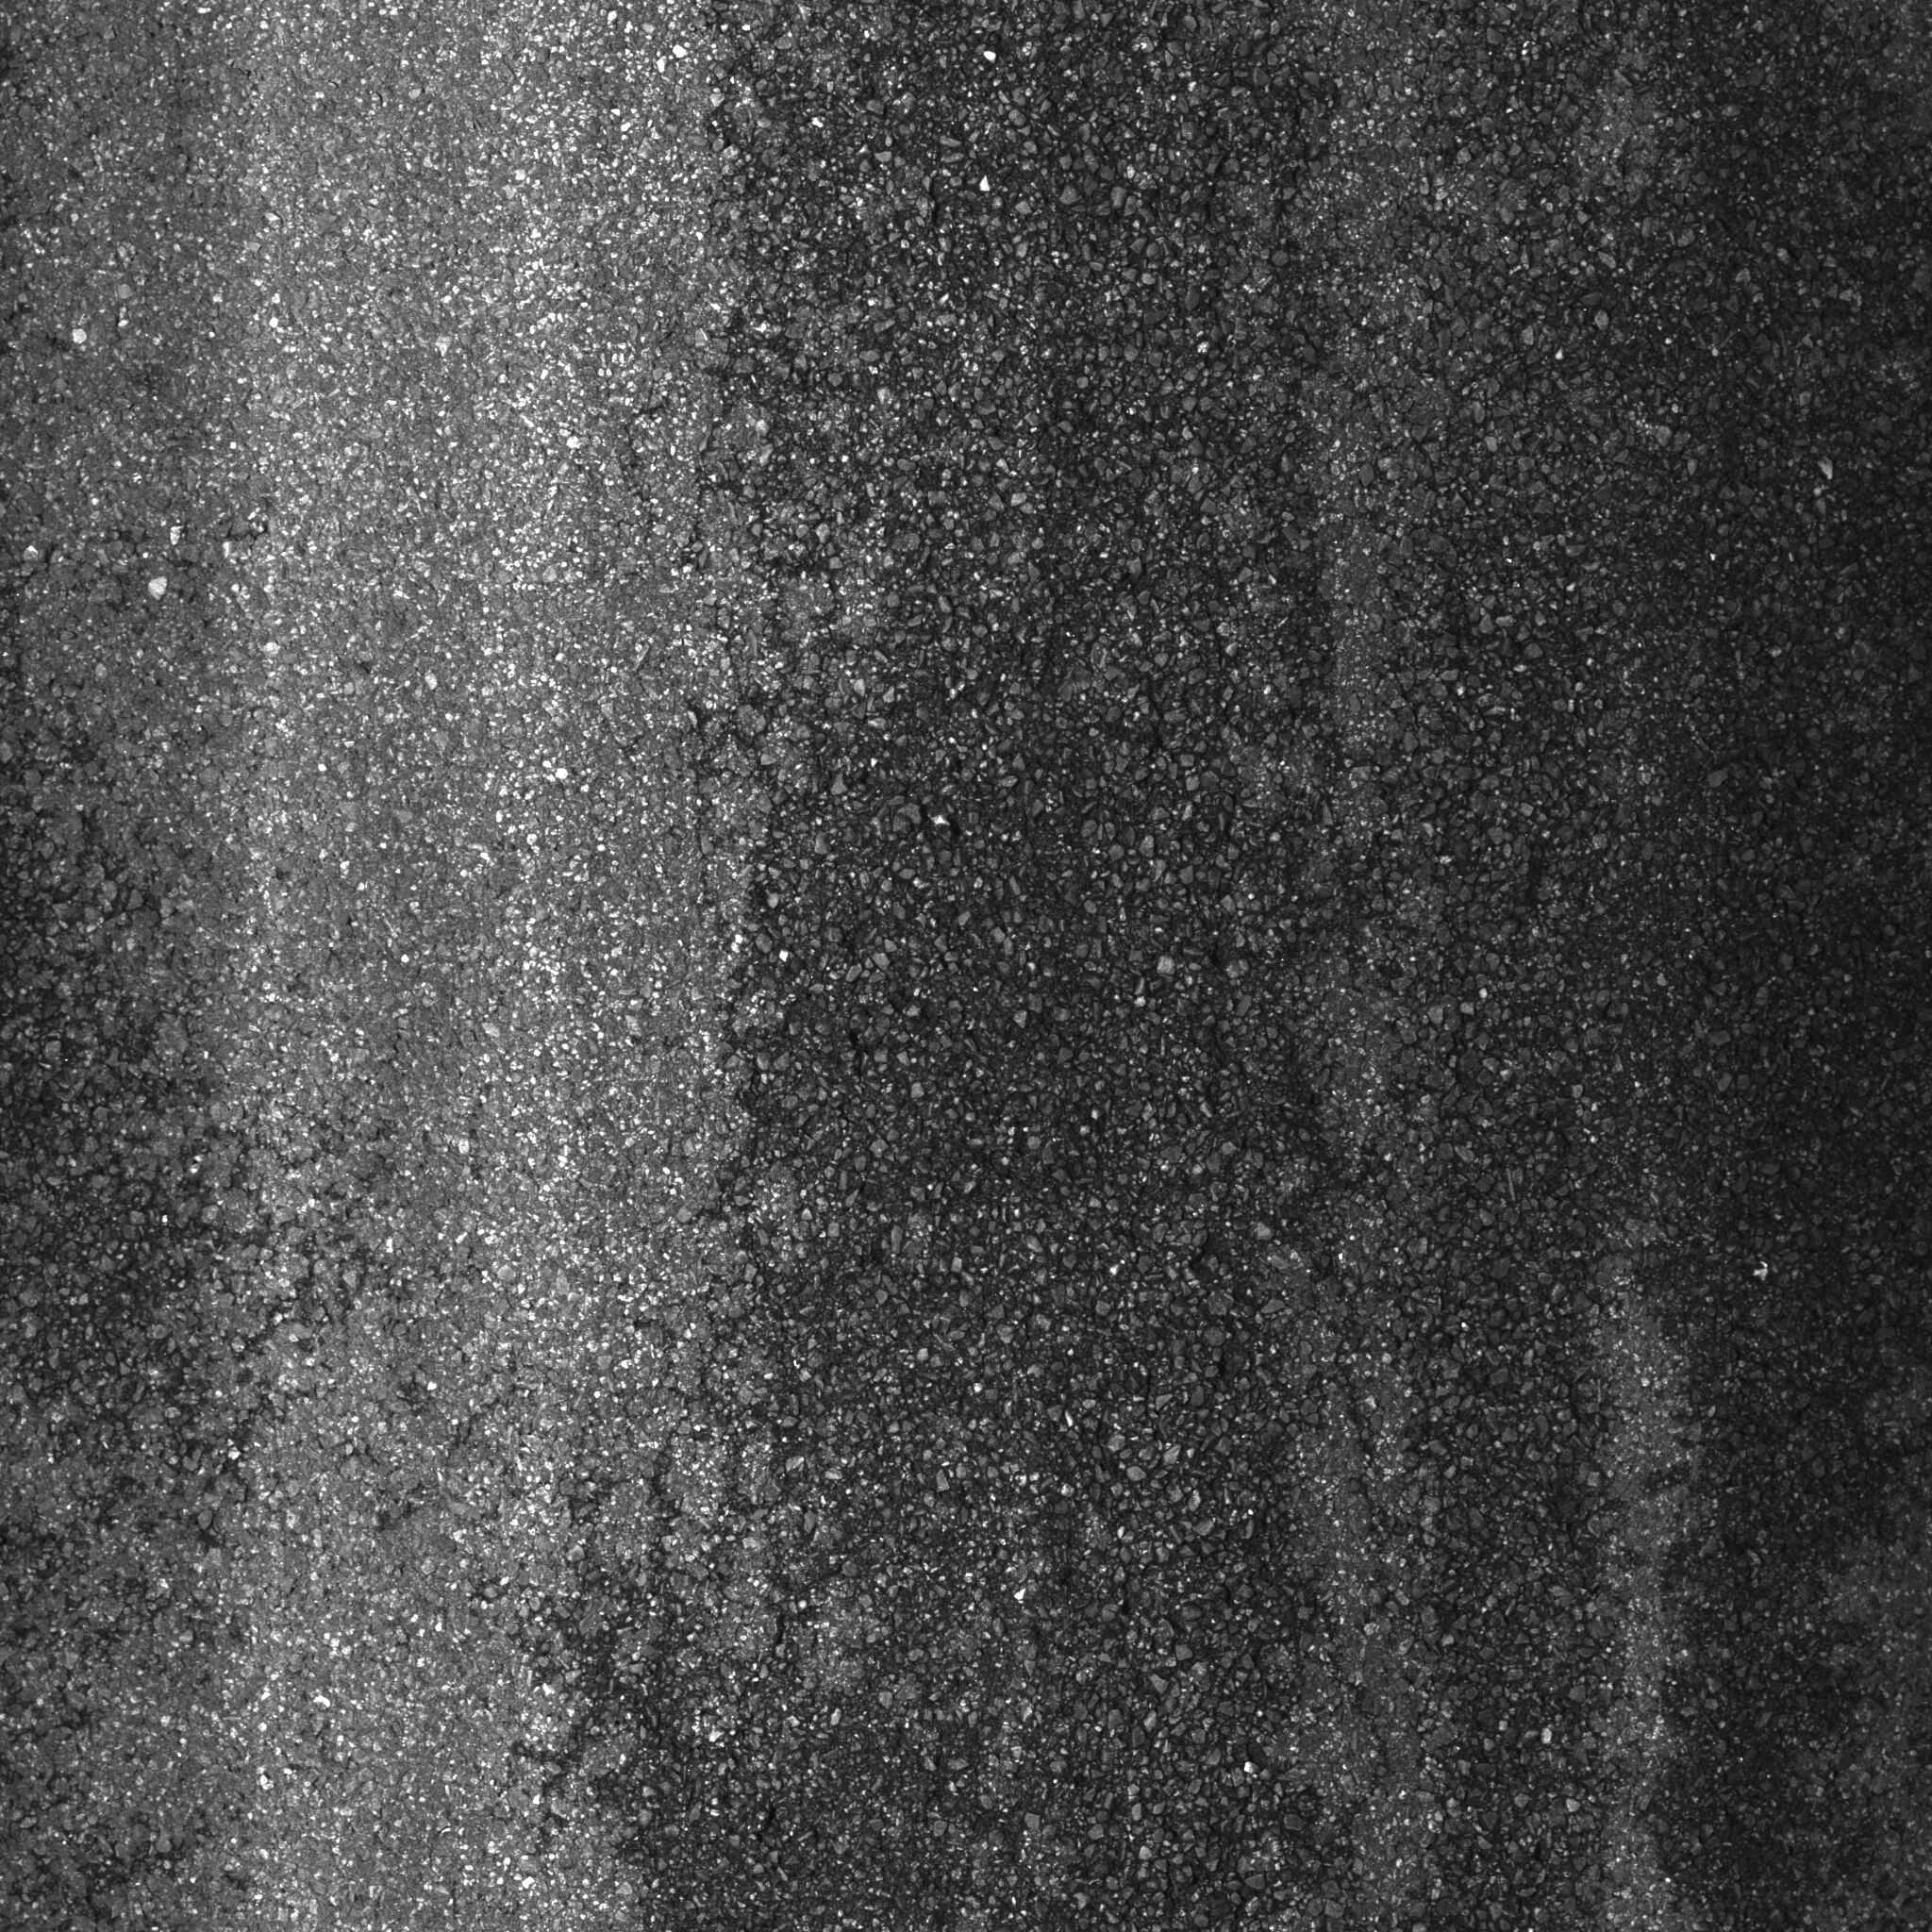alligator: (580, 2, 1927, 1932), (2, 662, 380, 1746)
